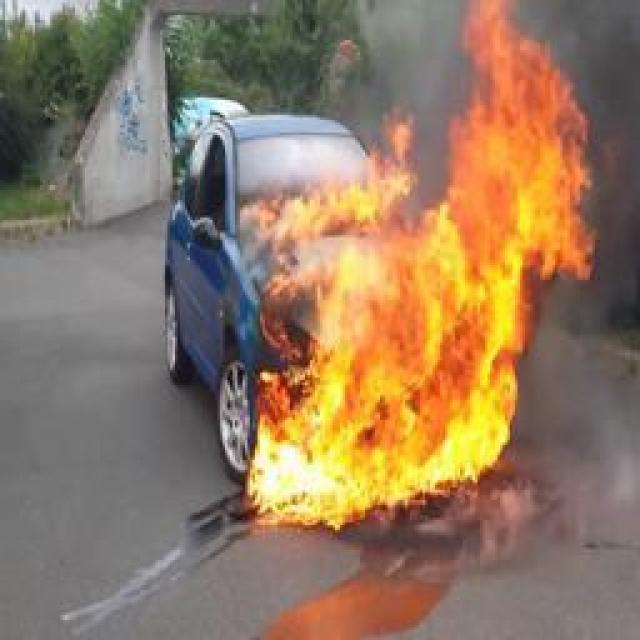Fire: (245, 2, 600, 528)
